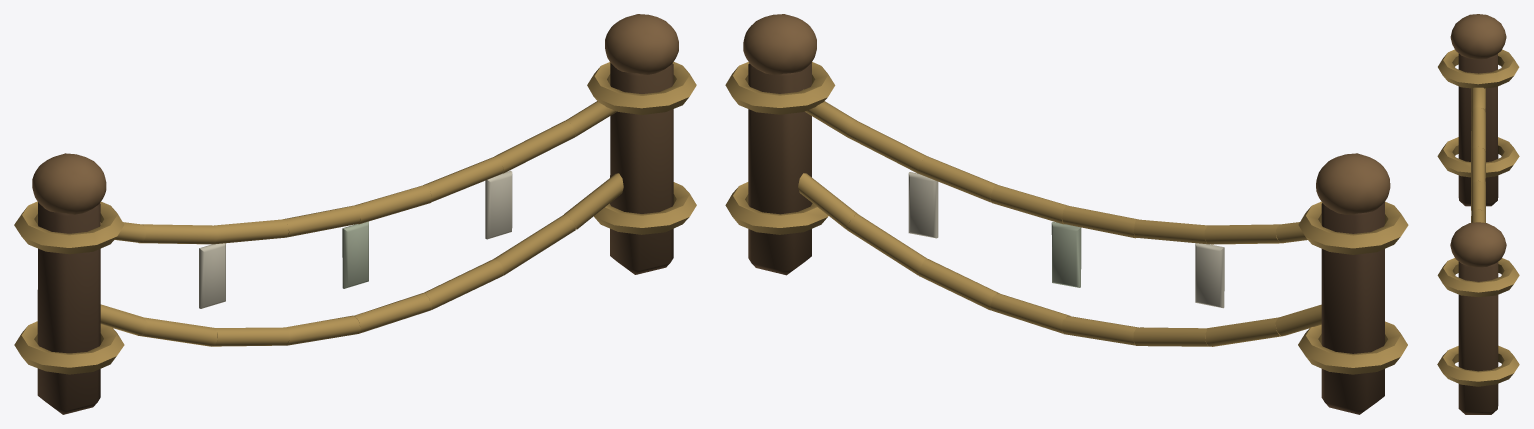
Rendered from rope_fence_a.glb.
3 renders of one model, left to right at view 1: azimuth 30°, elevation 25°; view 2: azimuth 150°, elevation 25°; view 3: azimuth 270°, elevation 25°, orthographic. The views are drawn at different scales.
Visible parts, largest first — view 1: Surface; view 2: Surface; view 3: Surface.
Boxes of the visible parts, bbox=[...] form: Surface: bbox=[14, 14, 696, 414]; Surface: bbox=[725, 14, 1408, 414]; Surface: bbox=[1437, 14, 1519, 414].
Bounding box in the file's own units: 3.5 × 1.24 × 0.5026.
